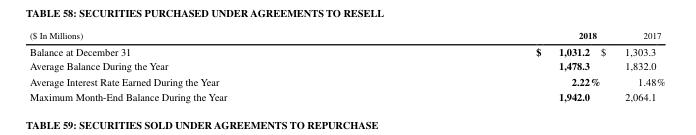table: (28, 28, 664, 103)
table column: (28, 28, 380, 103), (380, 28, 599, 103), (599, 28, 664, 103)
table column header: (28, 28, 664, 42)
table row: (28, 42, 664, 58), (28, 58, 664, 73), (28, 73, 664, 88), (28, 88, 664, 103), (28, 28, 664, 42)
